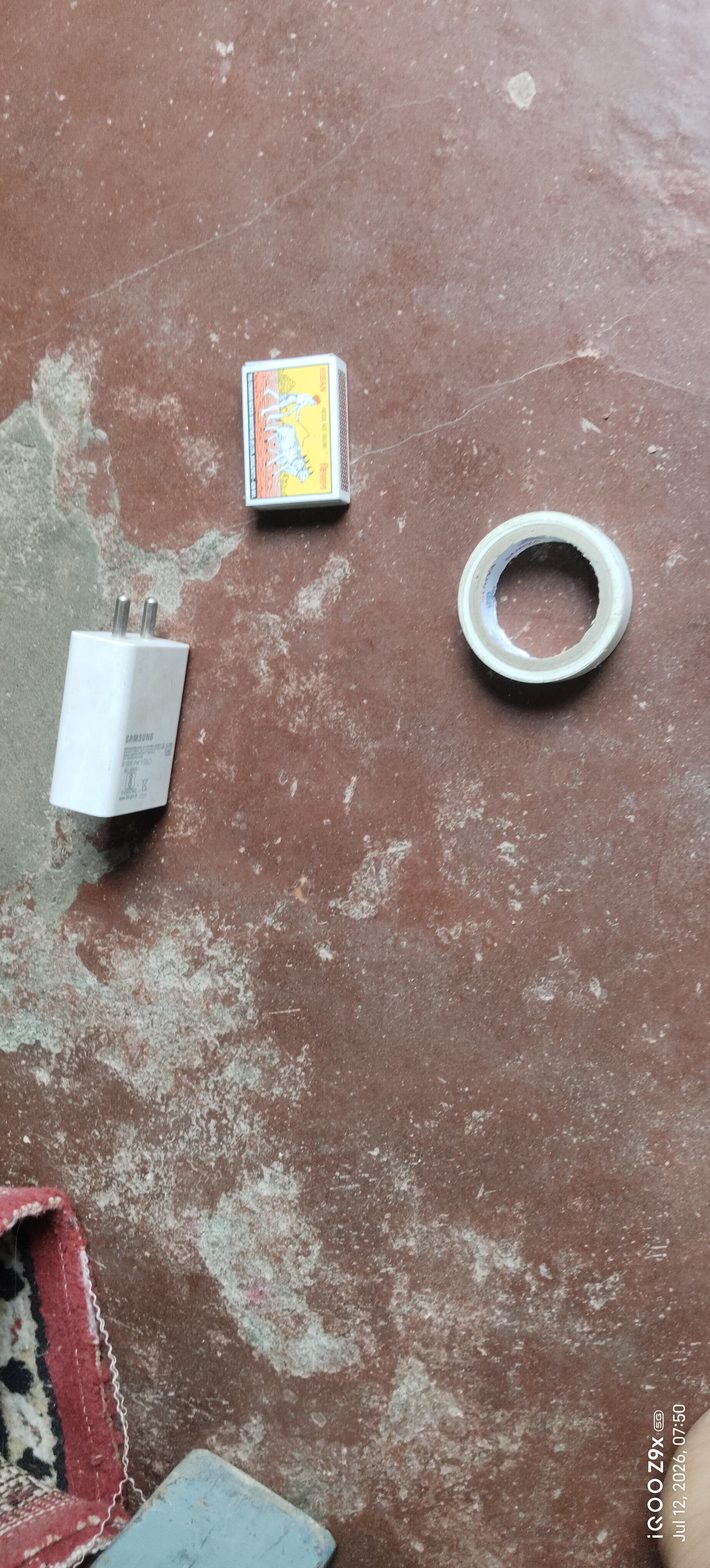charger: (23, 539, 214, 878)
matchbox: (197, 339, 382, 533)
tape_roll: (438, 496, 646, 725)
